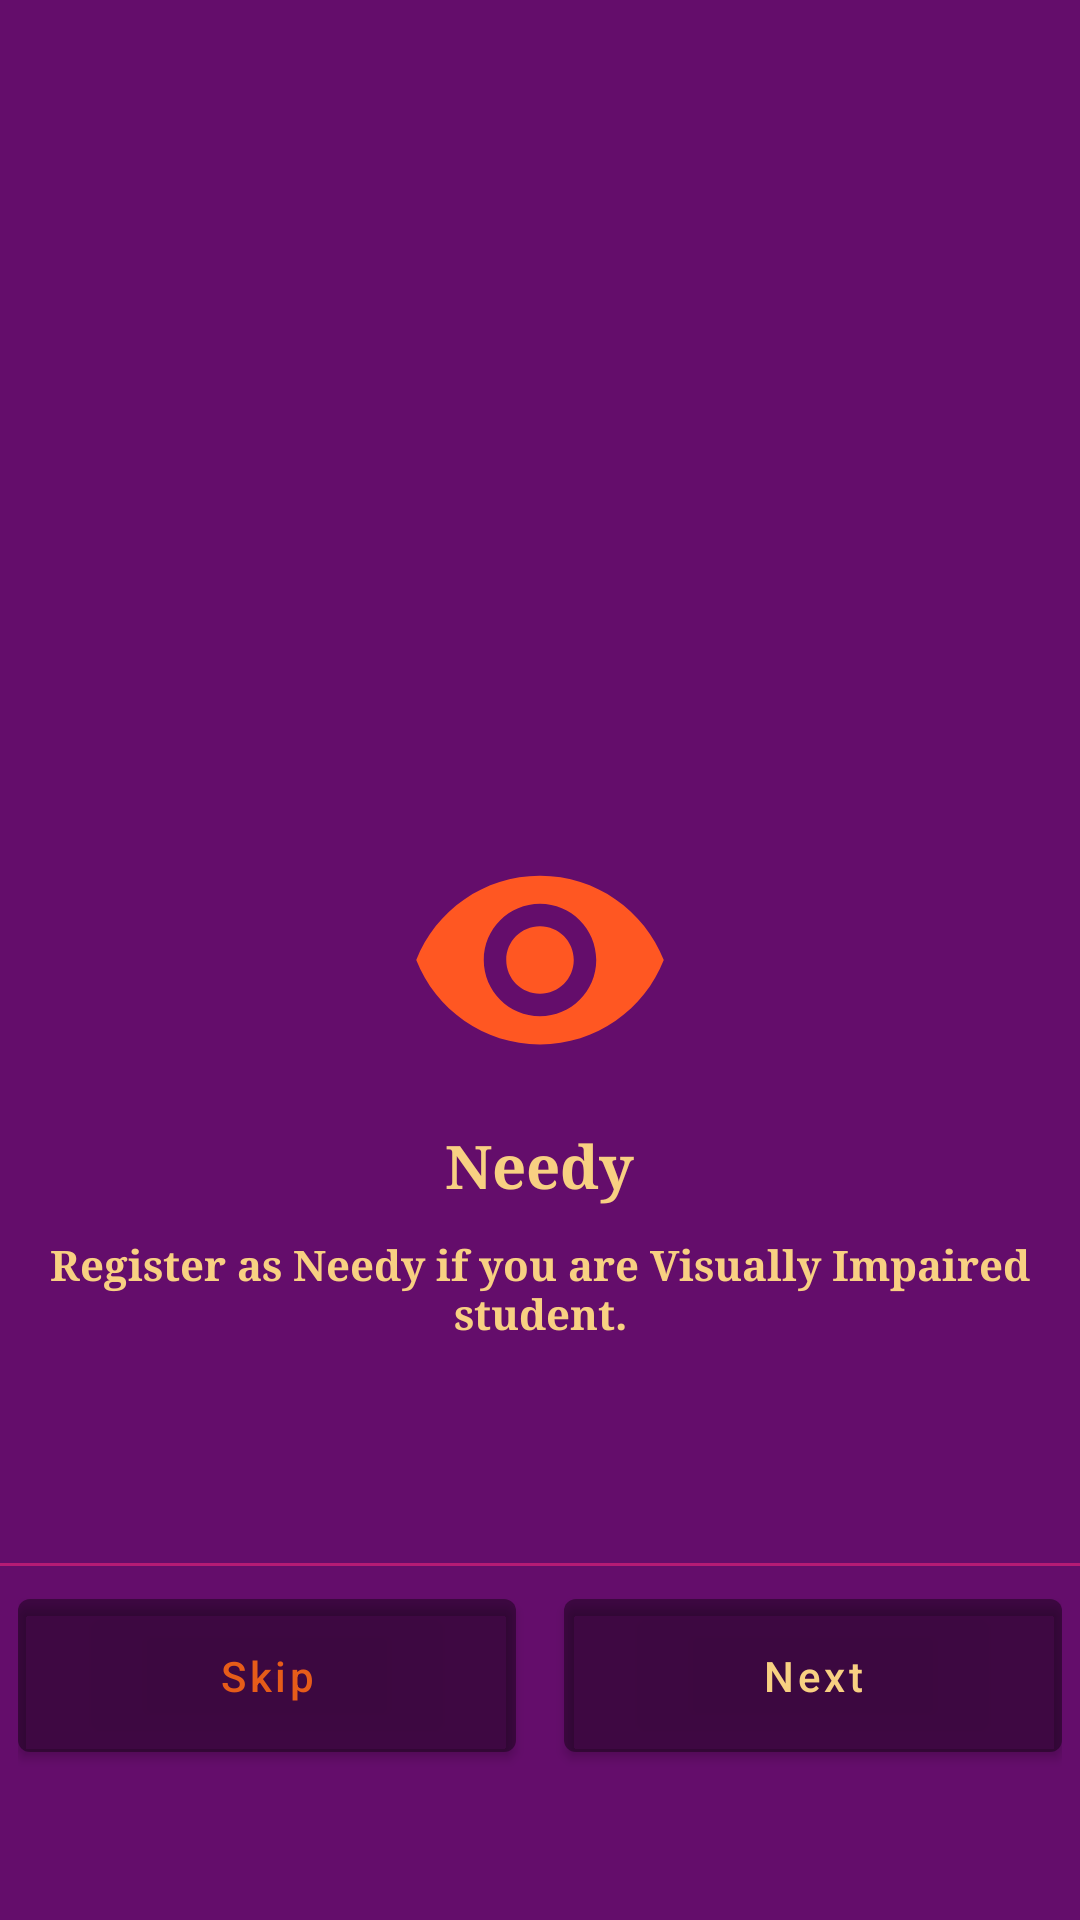

Icon bounding boxes for this 1080x1920 phone screenshot, format [x1=x1, y1=y1, x2=x2, y2=y2]:
eye: [x1=416, y1=875, x2=664, y2=1045]
